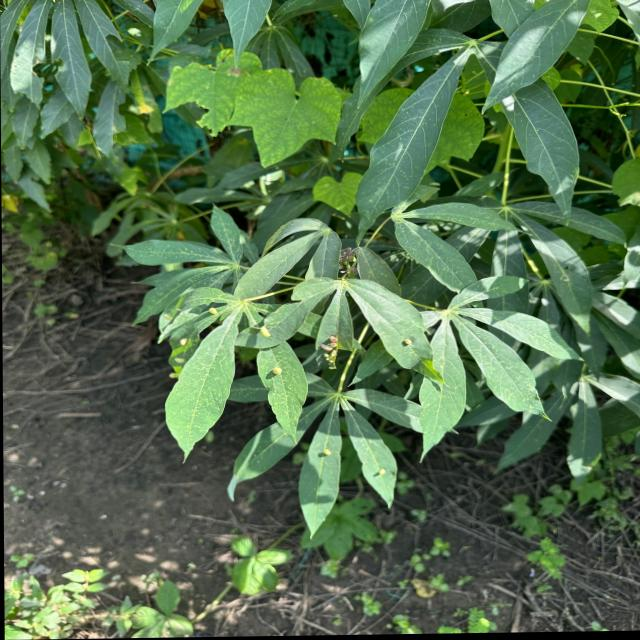Maleza: (160, 47, 346, 153)
Mosca: (317, 335, 340, 375), (320, 439, 338, 463), (265, 361, 285, 381), (257, 321, 276, 342), (398, 328, 416, 347), (205, 304, 221, 320), (375, 464, 389, 481), (539, 292, 553, 308), (176, 337, 189, 354)
